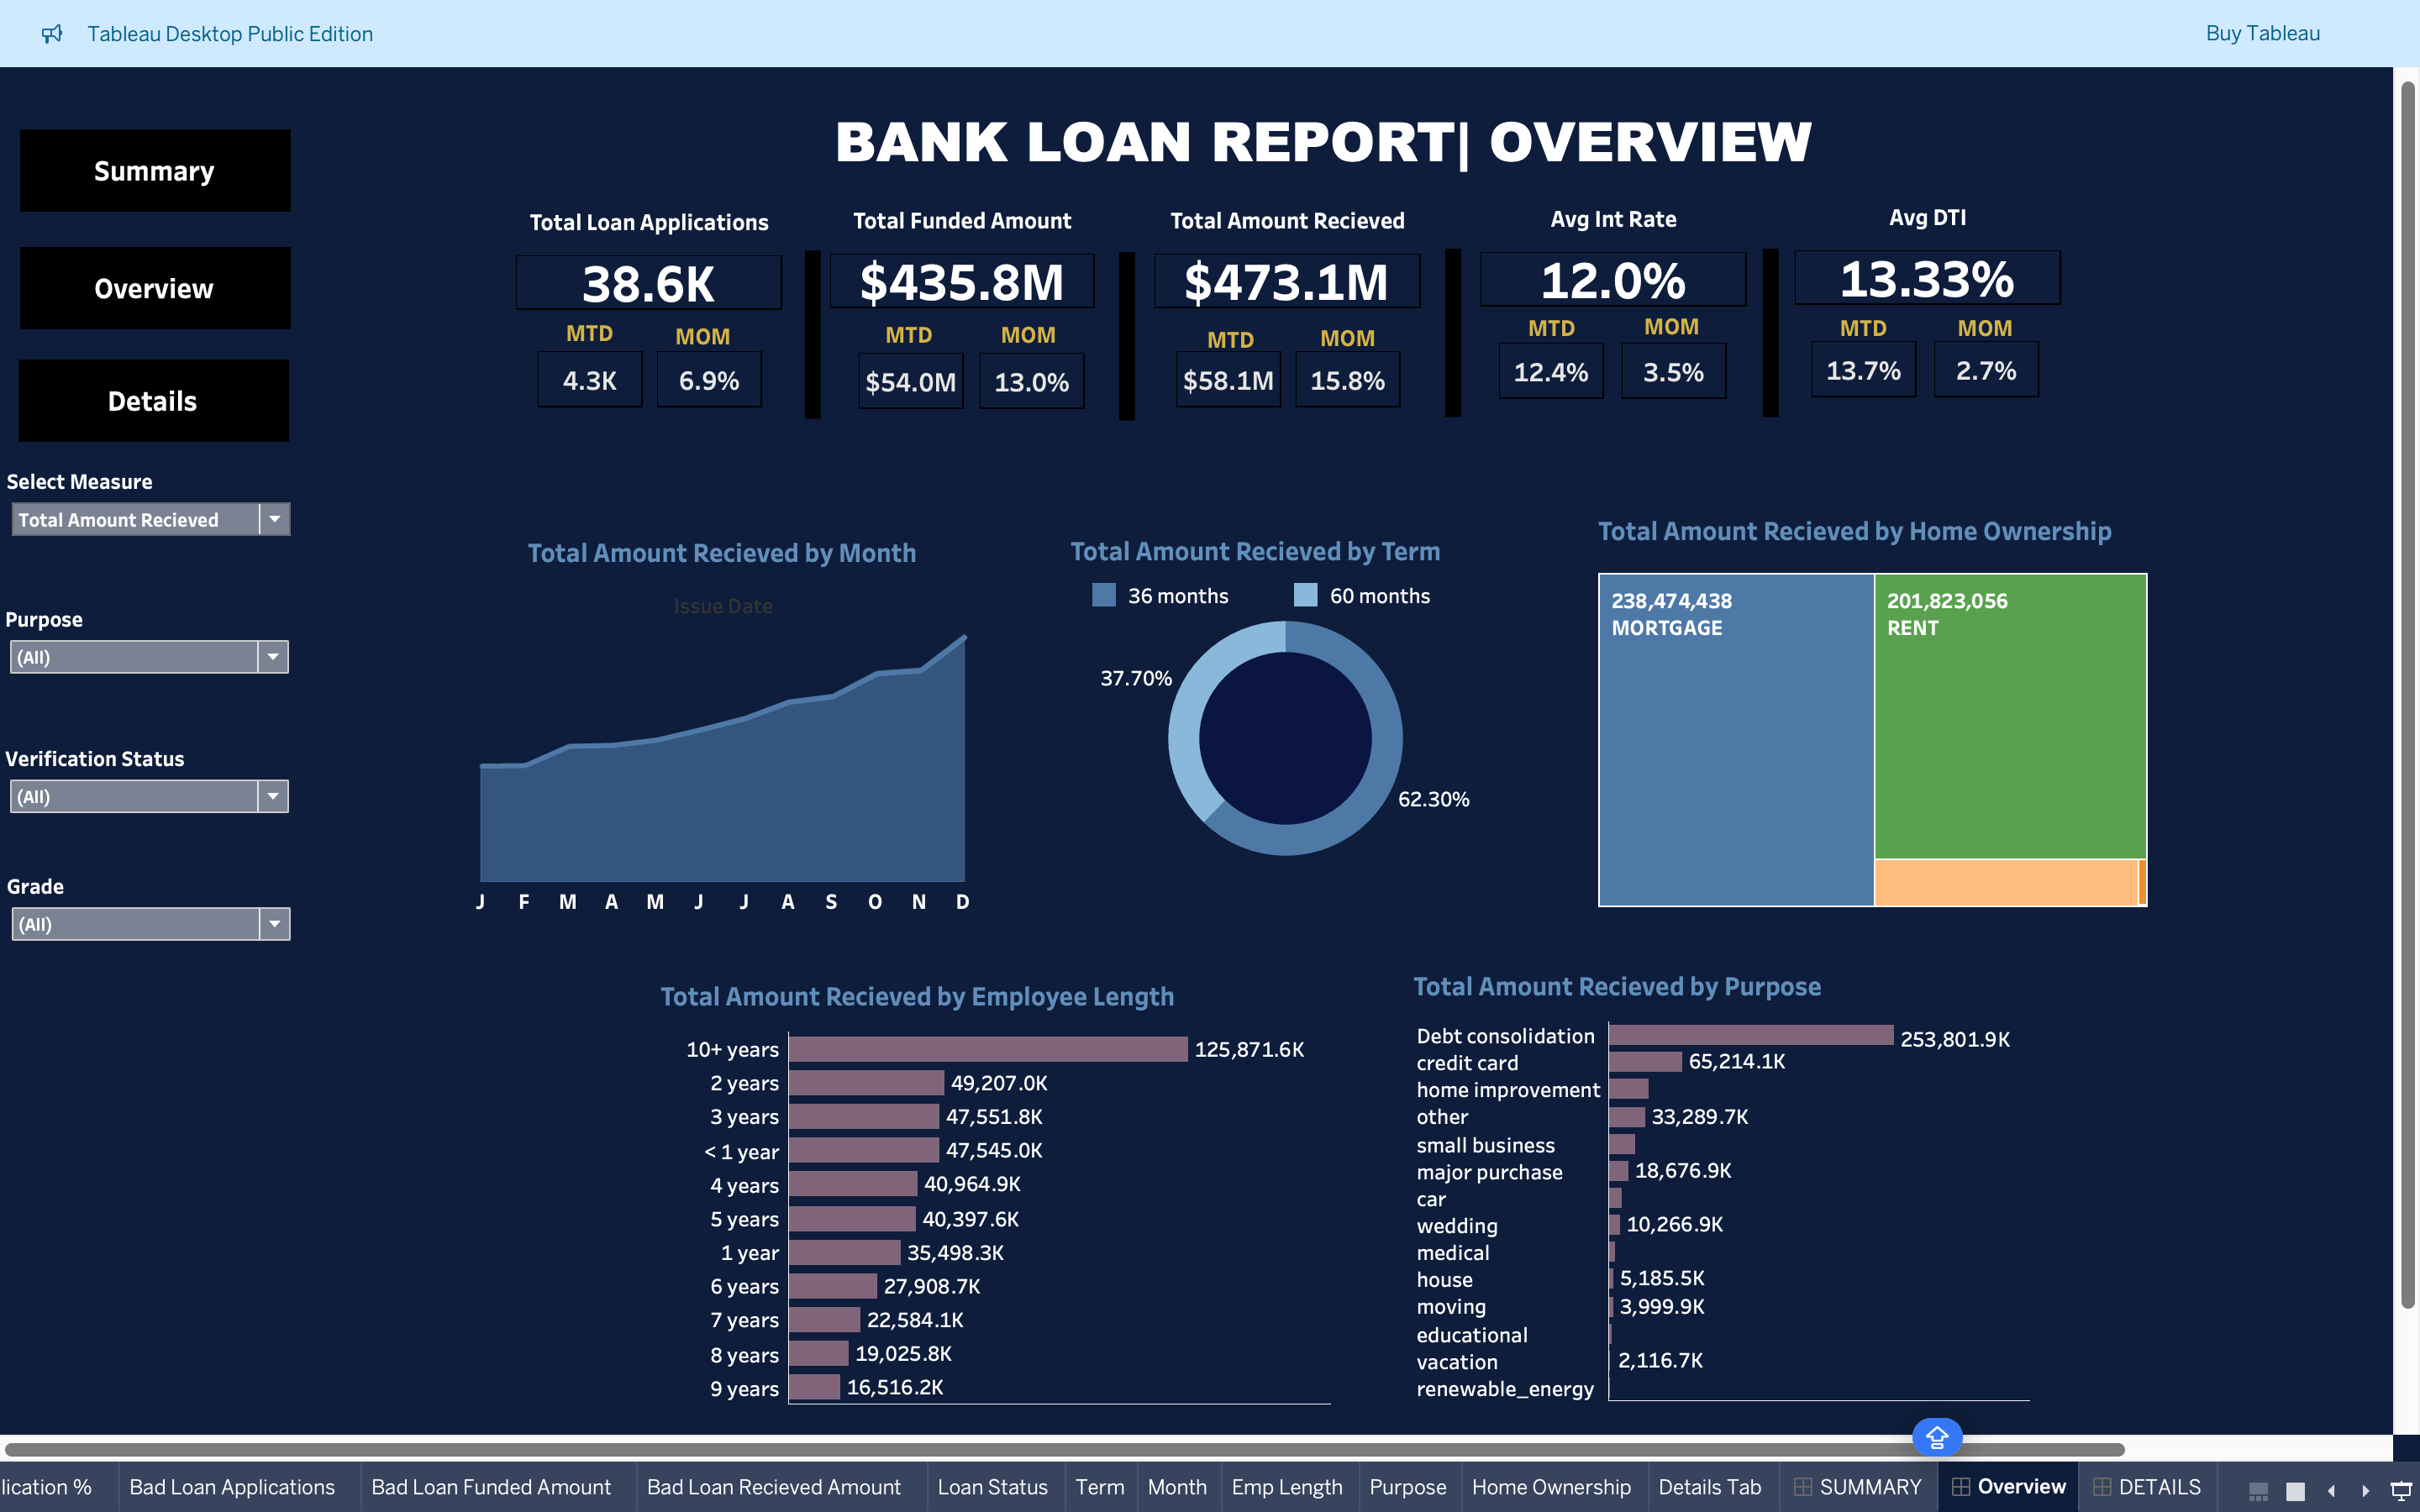

Layout of this report page (visuals, bound fields, positions):
{"tool":"tableau","page":{"name":"Overview","canvas":[1600,900],"ordinal":1},"visuals":[{"type":"text","box":[447,13,681,74]},{"type":"dashboard-object","box":[12,43,161,49]},{"type":"text","box":[1033,77,54,151]},{"type":"worksheet","title":"Avg DTI","mark":"Automatic","box":[1068,82,159,66]},{"type":"worksheet","title":"Avg Int Rate","mark":"Automatic","box":[881,83,159,66]},{"type":"worksheet","title":"Total Funded Amount","mark":"Automatic","box":[494,84,158,66]},{"type":"worksheet","title":"Total Amount Recieved","mark":"Automatic","box":[687,84,159,66]},{"type":"worksheet","title":"Total Loan Applications","mark":"Automatic","box":[307,85,159,66]},{"type":"text","box":[463,88,47,149]},{"type":"text","box":[844,88,44,130]},{"type":"text","box":[650,90,40,130]},{"type":"dashboard-object","box":[12,113,161,49]},{"type":"text","box":[894,146,59,30]},{"type":"text","box":[1081,146,56,30]},{"type":"text","box":[965,147,60,26]},{"type":"text","box":[1156,148,51,25]},{"type":"text","box":[330,149,42,30]},{"type":"text","box":[513,150,56,29]},{"type":"text","box":[593,151,42,28]},{"type":"text","box":[396,154,45,23]},{"type":"text","box":[783,154,41,25]},{"type":"text","box":[702,155,61,26]},{"type":"worksheet","title":"MTD Avg DTI","mark":"Automatic","box":[1078,169,63,34]},{"type":"worksheet","title":"MoM Avg DTI","mark":"Automatic","box":[1151,169,63,34]},{"type":"worksheet","title":"MTD Avg Int Rate","mark":"Automatic","box":[892,170,63,34]},{"type":"worksheet","title":"MoM Avg Int Rate ","mark":"Automatic","box":[965,170,63,34]},{"type":"worksheet","title":"MTD Total Loan Applications ","mark":"Automatic","box":[320,175,63,34]},{"type":"worksheet","title":"MoM Total Loan Applications","mark":"Automatic","box":[391,175,63,34]},{"type":"worksheet","title":"MTD Total Amount Recieved ","mark":"Automatic","box":[700,175,63,34]},{"type":"worksheet","title":"MoM Total Amount Recieved","mark":"Automatic","box":[771,175,63,34]},{"type":"worksheet","title":"MTD Total Funded Amount","mark":"Automatic","box":[511,176,63,34]},{"type":"worksheet","title":"MoM Total Funded Amount","mark":"Automatic","box":[583,176,63,34]},{"type":"dashboard-object","box":[11,180,161,49]},{"type":"parameter","param":"[Parameters].[Parameter 1]","box":[4,244,172,71]},{"type":"worksheet","title":"Home Ownership","mark":"Automatic","box":[947,267,334,260]},{"type":"worksheet","title":"Term","mark":"Pie","rows":["Calculation_46302689947992065","Calculation_46302689947992065"],"box":[633,279,264,217]},{"type":"worksheet","title":"Month","mark":"Area","rows":["Calculation_5148951436475326496","Calculation_5148951436475326496"],"cols":["issue_date"],"box":[273,280,314,232]},{"type":"legend","title":"Term","param":"[federated.1t1mkk51ygzmhx1bof0sq17v035e].[none:term:nk]","box":[647,310,249,25]},{"type":"filter","title":"Avg DTI","param":"[federated.1t1mkk51ygzmhx1bof0sq17v035e].[none:purpose:nk]","box":[3,326,172,71]},{"type":"filter","title":"Avg DTI","param":"[federated.1t1mkk51ygzmhx1bof0sq17v035e].[none:verification_status:nk]","box":[3,409,172,71]},{"type":"filter","title":"Avg DTI","param":"[federated.1t1mkk51ygzmhx1bof0sq17v035e].[none:grade:nk]","box":[4,485,172,71]},{"type":"worksheet","title":"Purpose","mark":"Automatic","rows":["purpose"],"cols":["Calculation_5148951436475326496"],"box":[837,538,371,262]},{"type":"worksheet","title":"Emp Length","mark":"Automatic","rows":["emp_length"],"cols":["Calculation_5148951436475326496"],"box":[389,544,403,258]}]}

Visuals, with their boxes on the page's 1600x900 design canvas (x1, y1, x2, y2). These are canvas units, not pixel positions in the 2420x1512 screenshot, which may show the page scaled, cropped or inside an application window:
text: region(447, 13, 1128, 87)
dashboard-object: region(12, 43, 173, 92)
text: region(1033, 77, 1087, 228)
"Avg DTI" worksheet: region(1068, 82, 1227, 148)
"Avg Int Rate" worksheet: region(881, 83, 1040, 149)
"Total Funded Amount" worksheet: region(494, 84, 652, 150)
"Total Amount Recieved" worksheet: region(687, 84, 846, 150)
"Total Loan Applications" worksheet: region(307, 85, 466, 151)
text: region(463, 88, 510, 237)
text: region(844, 88, 888, 218)
text: region(650, 90, 690, 220)
dashboard-object: region(12, 113, 173, 162)
text: region(894, 146, 953, 176)
text: region(1081, 146, 1137, 176)
text: region(965, 147, 1025, 173)
text: region(1156, 148, 1207, 173)
text: region(330, 149, 372, 179)
text: region(513, 150, 569, 179)
text: region(593, 151, 635, 179)
text: region(396, 154, 441, 177)
text: region(783, 154, 824, 179)
text: region(702, 155, 763, 181)
"MTD Avg DTI" worksheet: region(1078, 169, 1141, 203)
"MoM Avg DTI" worksheet: region(1151, 169, 1214, 203)
"MTD Avg Int Rate" worksheet: region(892, 170, 955, 204)
"MoM Avg Int Rate " worksheet: region(965, 170, 1028, 204)
"MTD Total Loan Applications " worksheet: region(320, 175, 383, 209)
"MoM Total Loan Applications" worksheet: region(391, 175, 454, 209)
"MTD Total Amount Recieved " worksheet: region(700, 175, 763, 209)
"MoM Total Amount Recieved" worksheet: region(771, 175, 834, 209)
"MTD Total Funded Amount" worksheet: region(511, 176, 574, 210)
"MoM Total Funded Amount" worksheet: region(583, 176, 646, 210)
dashboard-object: region(11, 180, 172, 229)
parameter: region(4, 244, 176, 315)
"Home Ownership" worksheet: region(947, 267, 1281, 527)
"Term" worksheet (Pie marks): region(633, 279, 897, 496)
"Month" worksheet (Area marks): region(273, 280, 587, 512)
"Term" legend: region(647, 310, 896, 335)
"Avg DTI" filter: region(3, 326, 175, 397)
"Avg DTI" filter: region(3, 409, 175, 480)
"Avg DTI" filter: region(4, 485, 176, 556)
"Purpose" worksheet: region(837, 538, 1208, 800)
"Emp Length" worksheet: region(389, 544, 792, 802)
